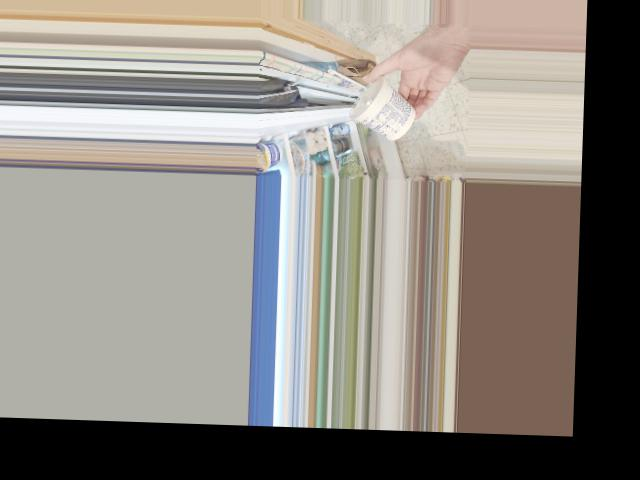cotage: (346, 75, 419, 133)
